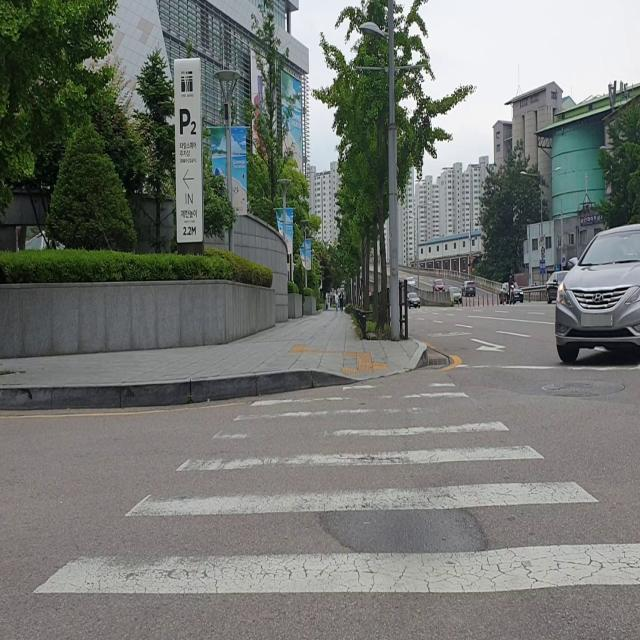횡단보도: (31, 376, 640, 601)
